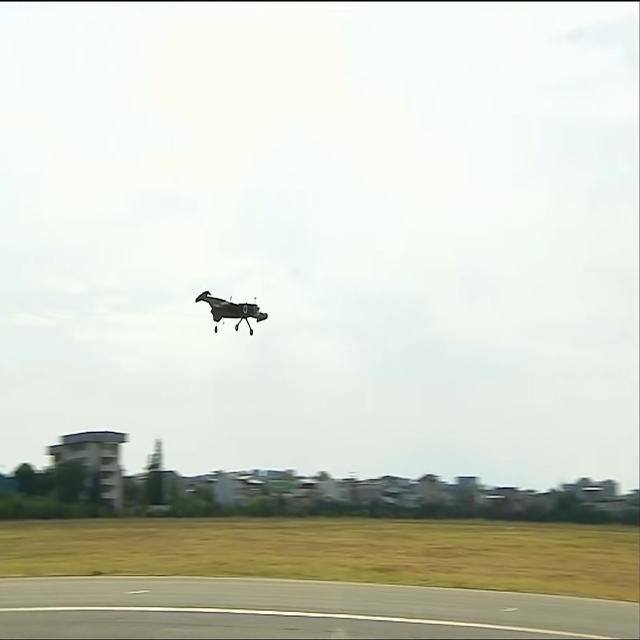iha: (228, 289, 233, 336)
